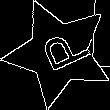P_SW: (28, 26, 89, 80)
